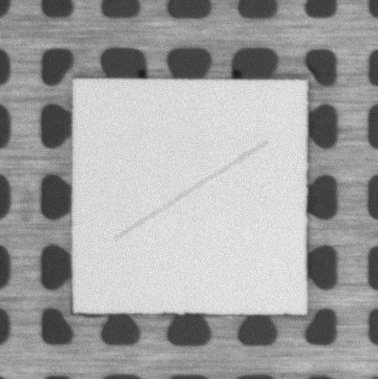DIE_CRACK: (116, 142, 265, 239)
